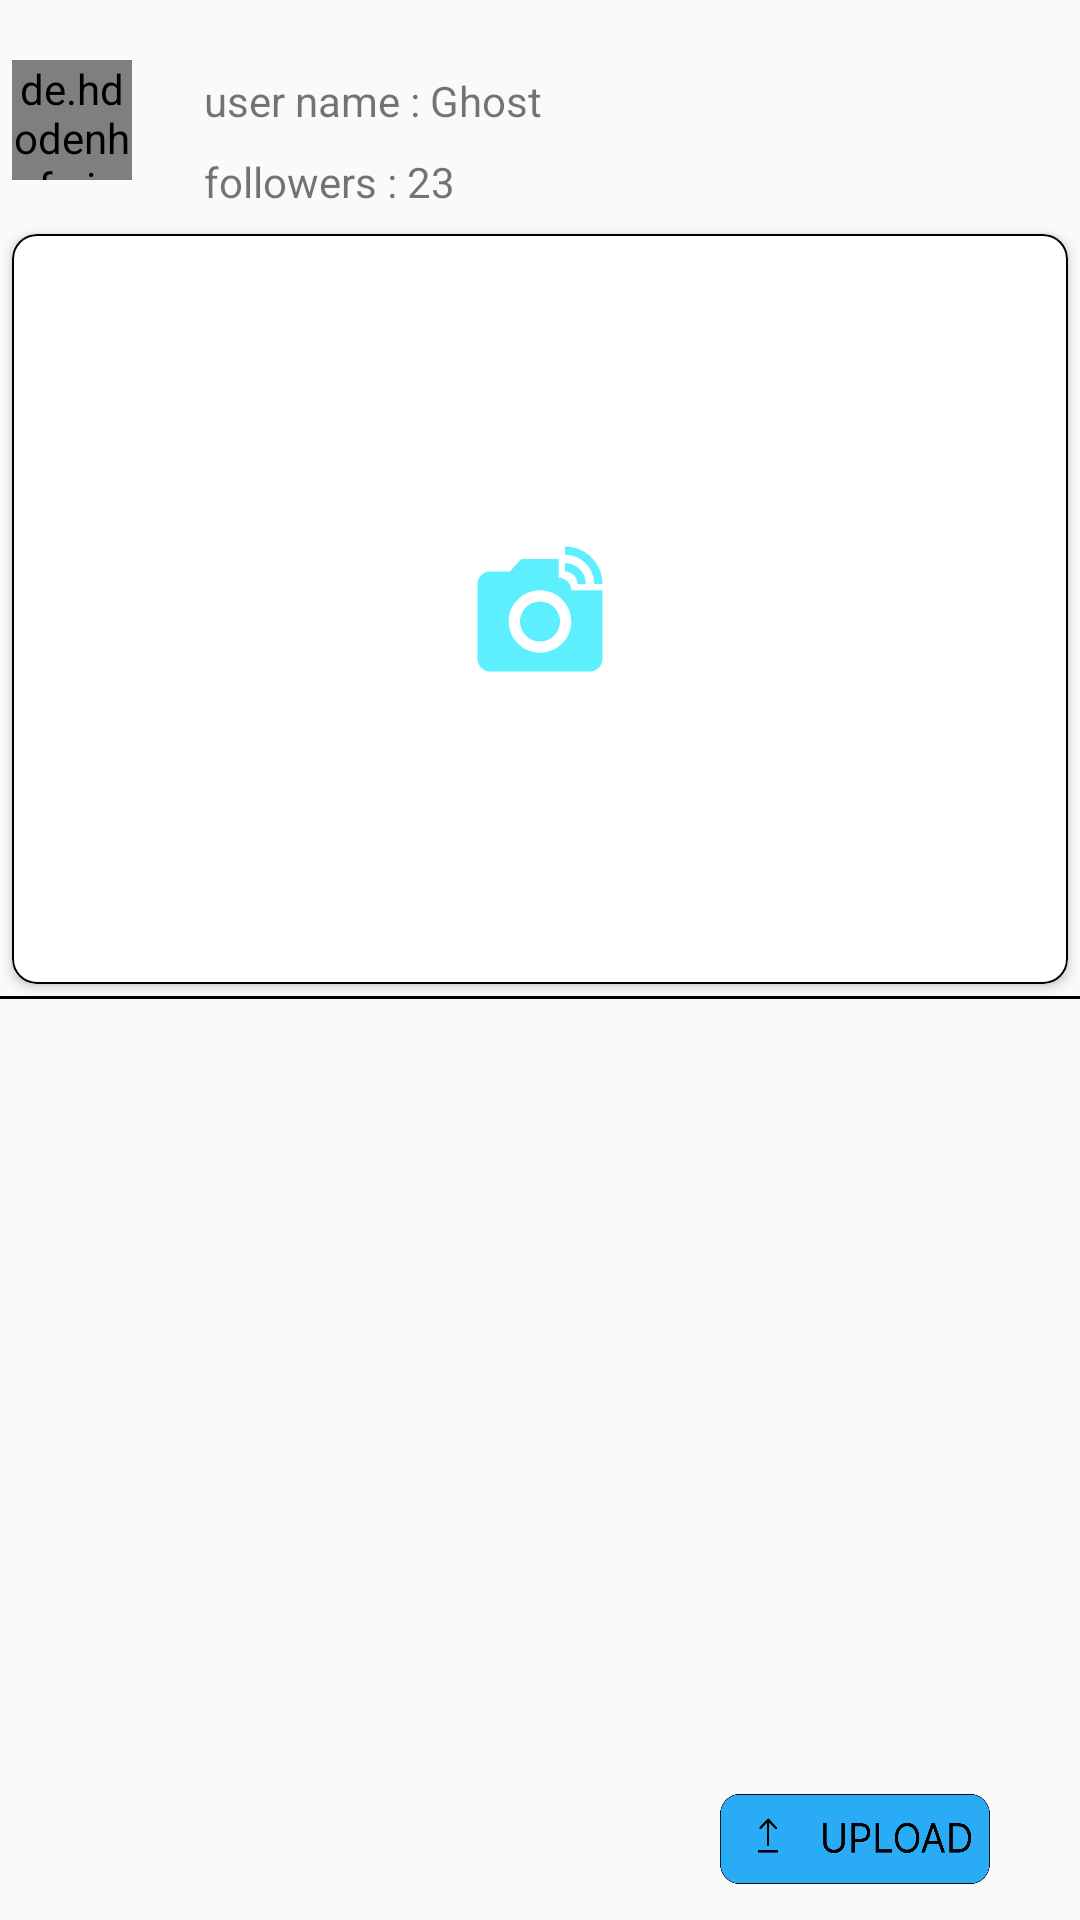

Icon click points for this 1080w x 1920h phone screenshot, format (x,y):
camera: (540,609)
